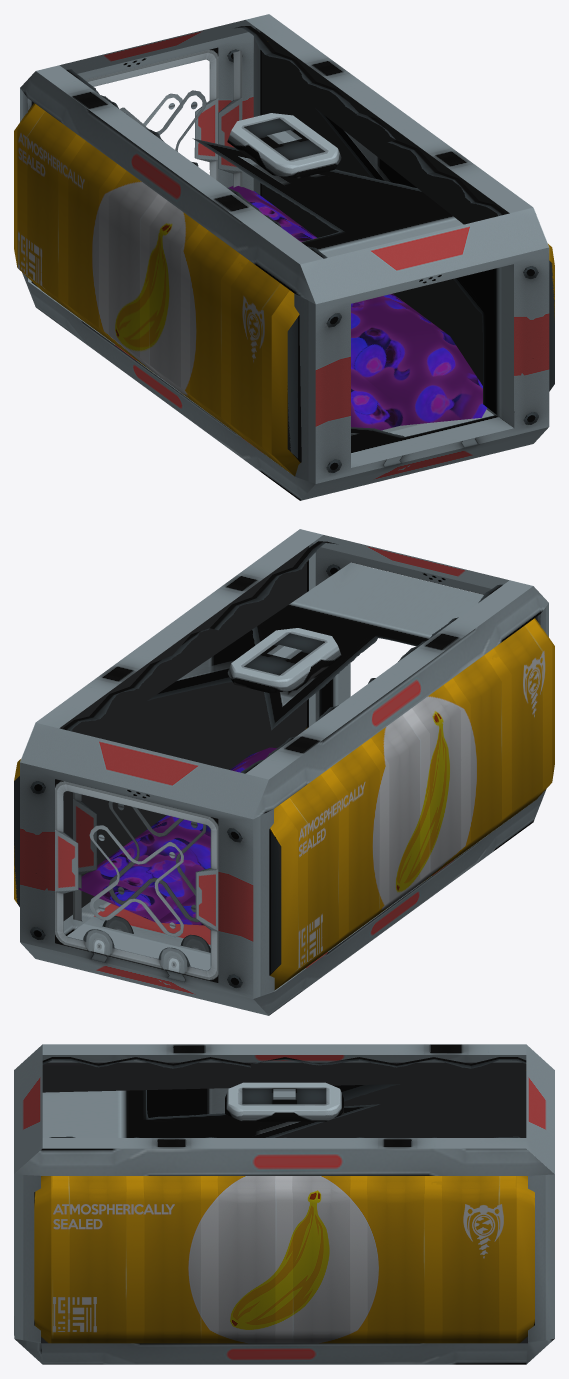
The model's file is env_building_container_blueberry_lod2.fbx.
3 views of the same model, one above another, from view 1: azimuth 30°, elevation 25°; view 2: azimuth 150°, elevation 25°; view 3: azimuth 270°, elevation 25° (orthographic). The views are drawn at different scales.
Visible parts, largest first — view 1: env_building_container_blueberry_lod2; view 2: env_building_container_blueberry_lod2; view 3: env_building_container_blueberry_lod2.
Boxes of the visible parts, bbox=[...] form: env_building_container_blueberry_lod2: bbox=[14, 14, 554, 500]; env_building_container_blueberry_lod2: bbox=[14, 529, 554, 1015]; env_building_container_blueberry_lod2: bbox=[14, 1044, 554, 1364].
Bounding box in the file's own units: 19.98 × 16.24 × 36.48.
